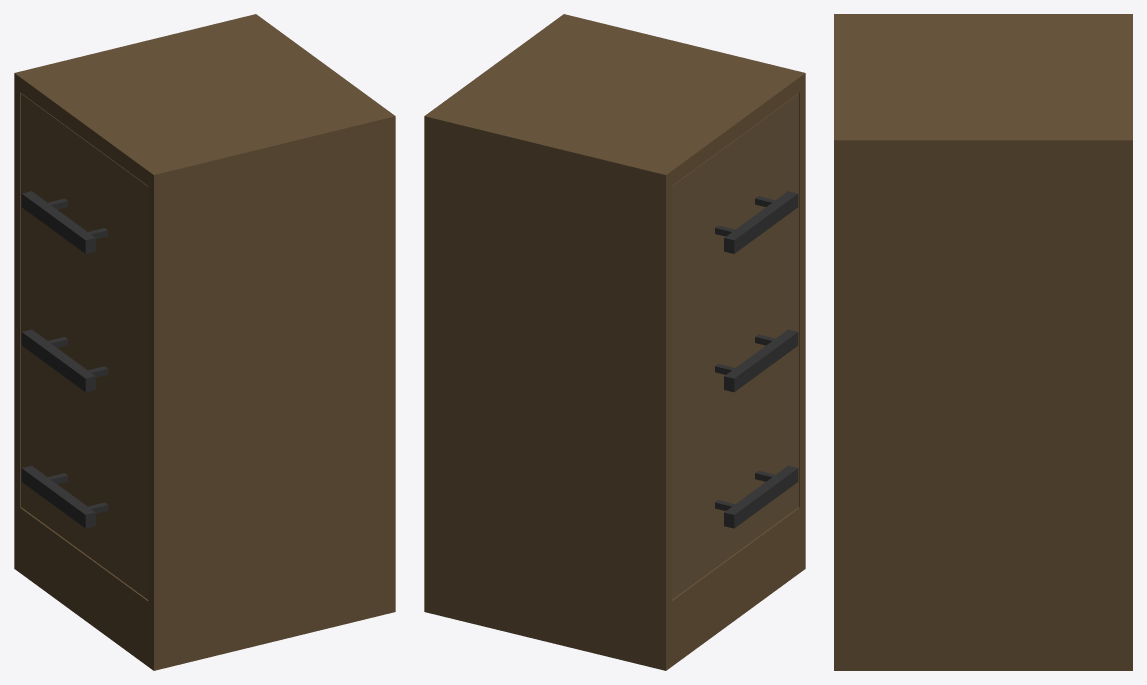
The model's file is Bedside Drawer.fbx.
3 renders of one model, left to right at view 1: azimuth 30°, elevation 25°; view 2: azimuth 150°, elevation 25°; view 3: azimuth 270°, elevation 25°, orthographic. The views are drawn at different scales.
Parts seen in each view (by area): view 1: pCube4, pCube11, pCube9, pCube10; view 2: pCube4, pCube11, pCube9, pCube10; view 3: pCube4.
Part boxes in pixels (bbox=[...]): pCube4: bbox=[14, 14, 395, 670]; pCube11: bbox=[21, 93, 148, 324]; pCube9: bbox=[21, 368, 148, 599]; pCube10: bbox=[21, 232, 148, 462]; pCube4: bbox=[424, 14, 805, 670]; pCube11: bbox=[671, 93, 798, 324]; pCube9: bbox=[671, 368, 798, 599]; pCube10: bbox=[671, 232, 798, 461]; pCube4: bbox=[834, 14, 1132, 670].
Bounding box in the file's own units: 7.45 × 12.97 × 6.62.
